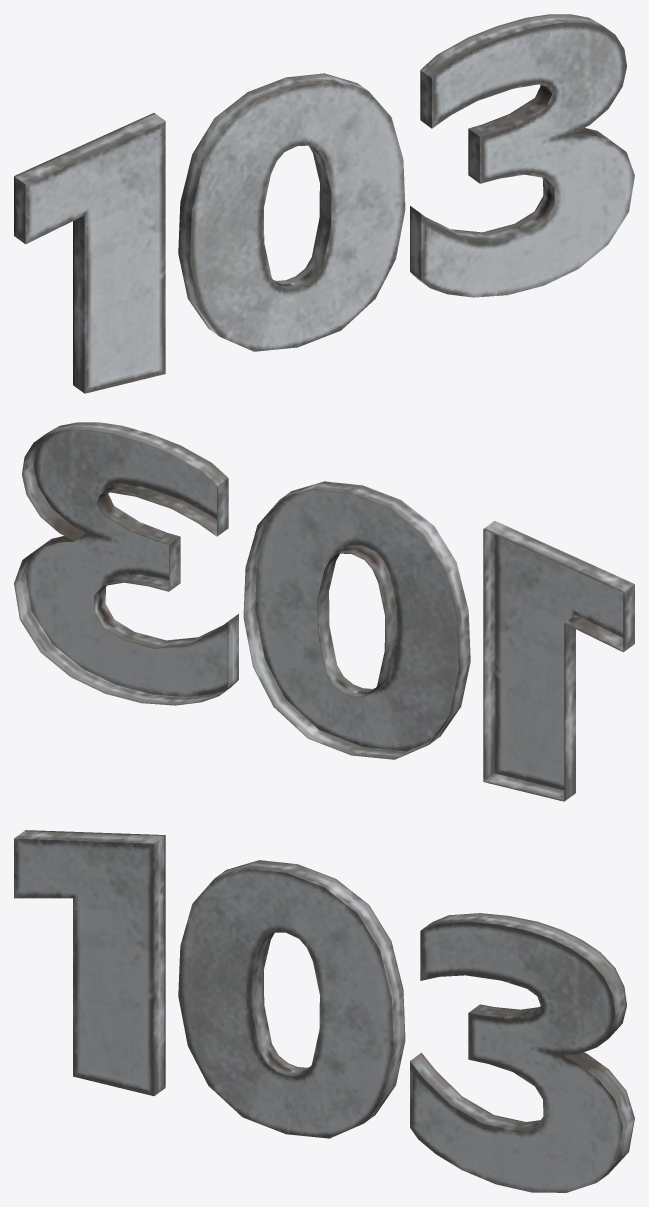
The model's file is categorySign103.FBX.
3 views of the same model, one above another, from view 1: azimuth 30°, elevation 25°; view 2: azimuth 150°, elevation 25°; view 3: azimuth 330°, elevation 25° (orthographic).
Visible parts, largest first — view 1: SM_CategorySign103; view 2: SM_CategorySign103; view 3: SM_CategorySign103.
Part boxes in pixels (bbox=[...]): SM_CategorySign103: bbox=[14, 14, 634, 393]; SM_CategorySign103: bbox=[14, 422, 634, 801]; SM_CategorySign103: bbox=[14, 830, 634, 1192].
Size of the model in its own units: 6.06 by 2.49 by 0.2.
1 material, 1 textured.
